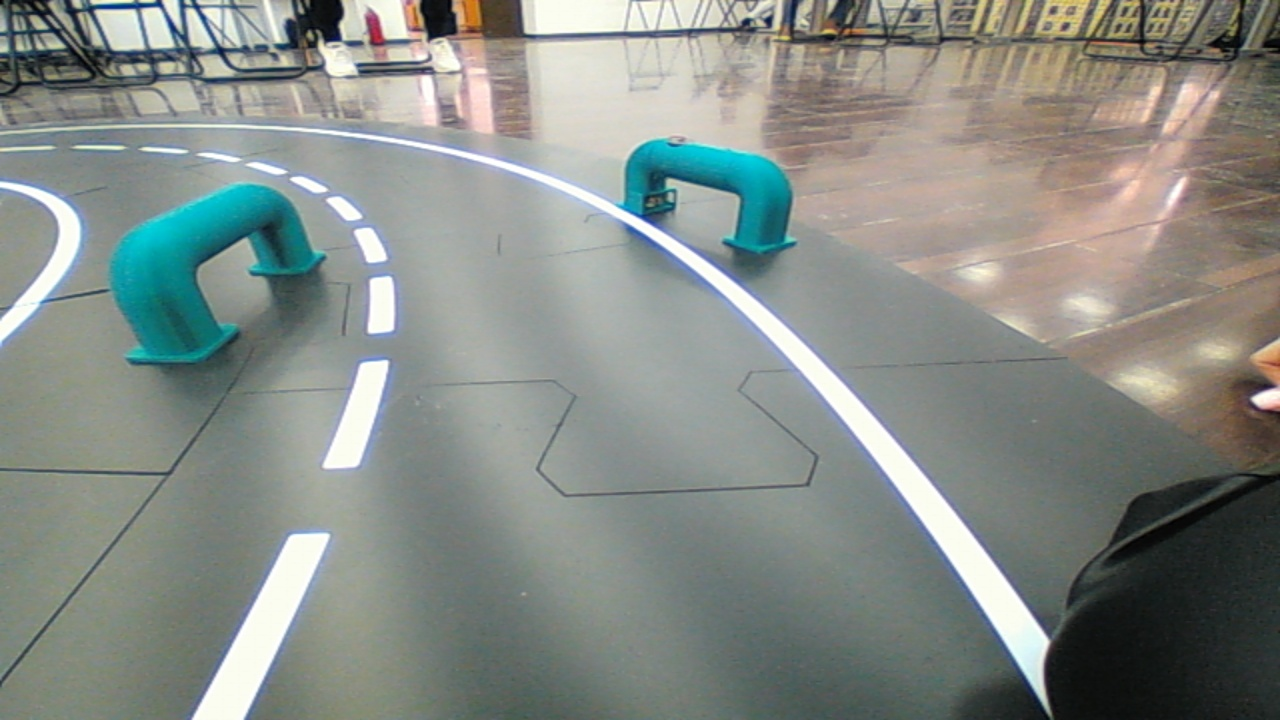No entry: (102, 179, 330, 374)
Pedestrian crossing: (606, 125, 801, 271)
